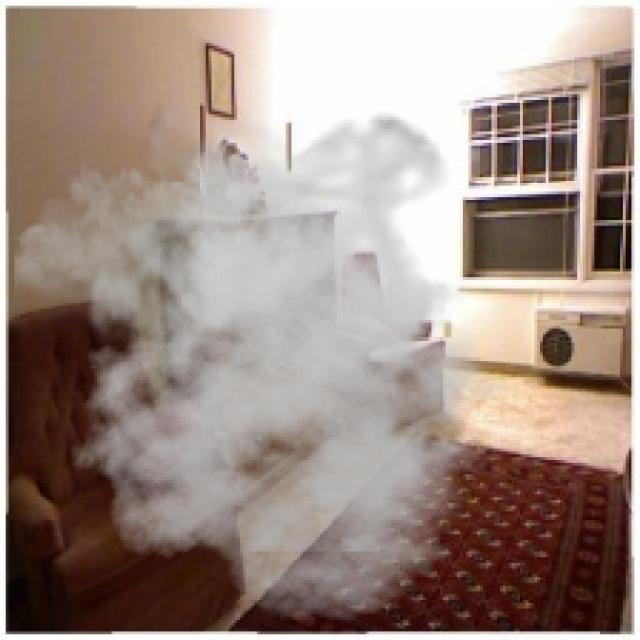smoke: (14, 106, 534, 623)
